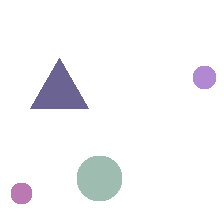circle: (77, 156, 121, 200), (193, 66, 215, 88), (11, 183, 31, 203)
triangle: (30, 58, 88, 108)
